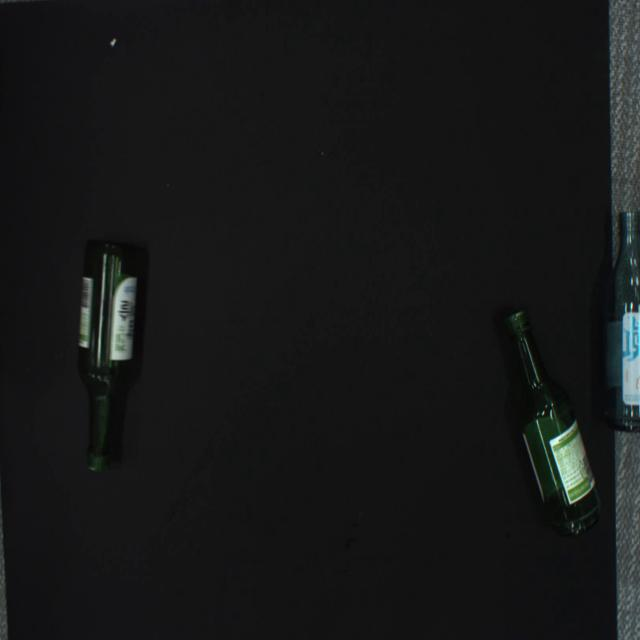soju-bottle: (505, 308, 601, 538), (77, 242, 140, 472), (605, 210, 640, 432)
